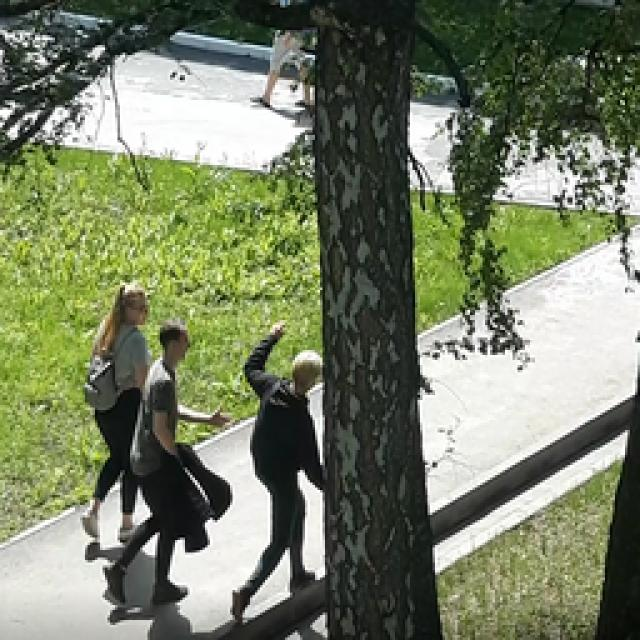person: (102, 320, 230, 602), (230, 320, 322, 620), (80, 282, 148, 540), (270, 30, 310, 108), (250, 70, 278, 102)
